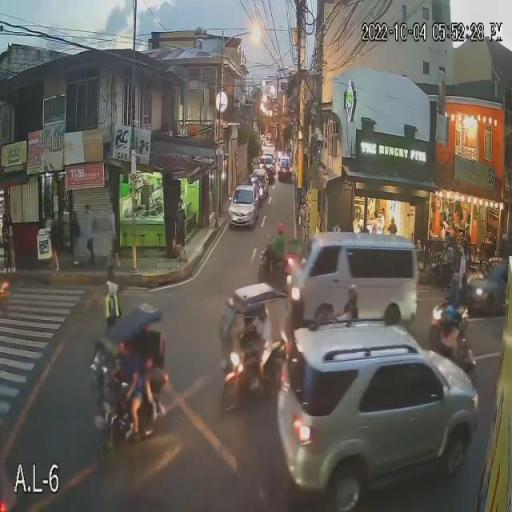helmet: (347, 284, 357, 300), (445, 307, 455, 320), (275, 223, 284, 234), (451, 276, 459, 288), (462, 273, 468, 287), (455, 312, 461, 325)
motorcycle: (258, 248, 289, 282), (428, 305, 442, 346)
rider: (441, 320, 457, 357), (342, 302, 358, 321), (272, 237, 284, 260), (446, 289, 458, 306), (459, 288, 468, 304)
